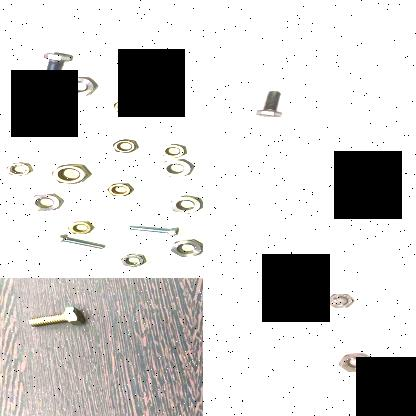Bolts: (22, 306, 92, 328), (251, 88, 292, 124), (122, 220, 188, 240), (33, 46, 69, 82), (47, 234, 107, 252)
NUTS: (58, 71, 106, 101), (20, 106, 68, 134), (22, 188, 66, 215), (334, 352, 375, 378), (166, 192, 203, 217), (156, 158, 198, 180), (166, 236, 203, 260), (1, 157, 40, 179), (116, 249, 152, 271), (156, 138, 191, 160), (265, 278, 317, 292), (106, 179, 142, 199), (107, 96, 143, 116), (108, 135, 142, 156), (64, 220, 100, 236), (323, 292, 355, 309)
